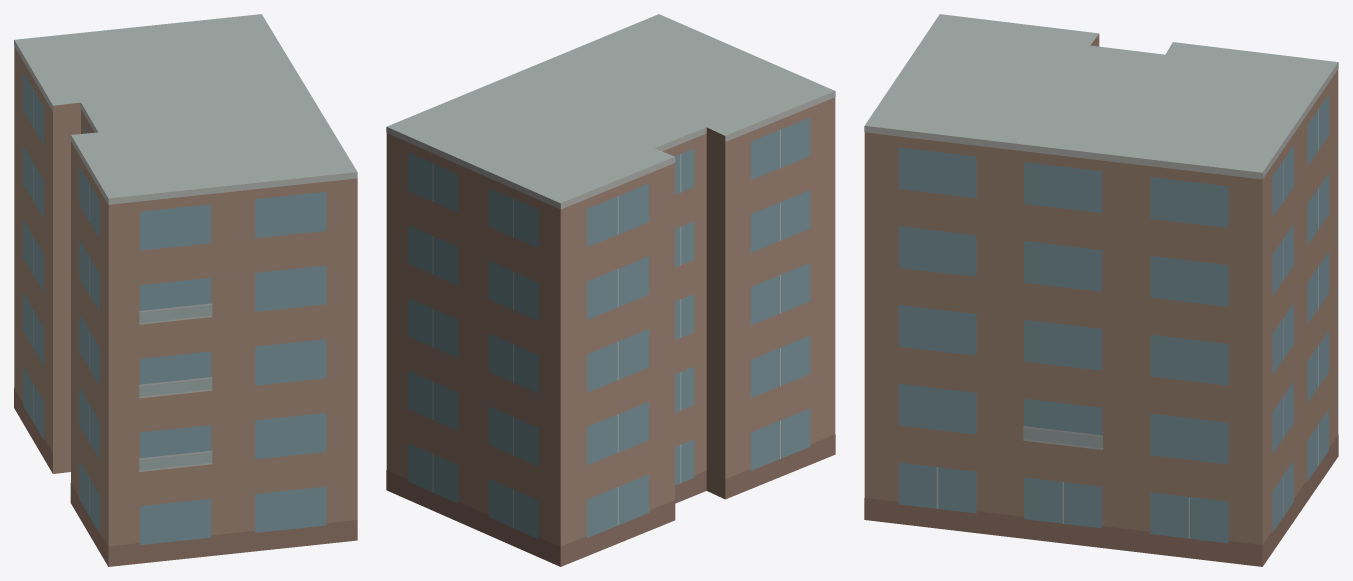
File: survey-upis-32875700.glb
3 renders of one model, left to right at view 1: azimuth 30°, elevation 25°; view 2: azimuth 150°, elevation 25°; view 3: azimuth 270°, elevation 25°, orthographic. The views are drawn at different scales.
Visible parts, largest first — view 1: survey-upis-32875700.tmp; view 2: survey-upis-32875700.tmp; view 3: survey-upis-32875700.tmp.
Boxes of the visible parts, x1,y1,x2,y2 form: survey-upis-32875700.tmp: (14, 14, 357, 566); survey-upis-32875700.tmp: (386, 14, 835, 566); survey-upis-32875700.tmp: (864, 14, 1338, 566).
Bounding box in the file's own units: 12.45 × 14.4 × 15.71.
